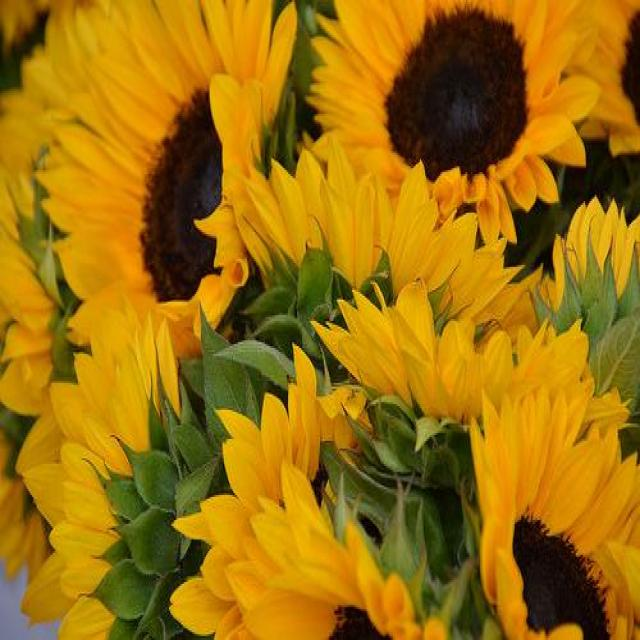sunflower: (43, 0, 294, 346), (306, 1, 596, 243), (169, 344, 370, 638), (232, 145, 556, 321), (19, 310, 177, 634), (466, 388, 640, 640), (309, 280, 594, 416), (225, 464, 443, 640), (548, 192, 640, 282)
